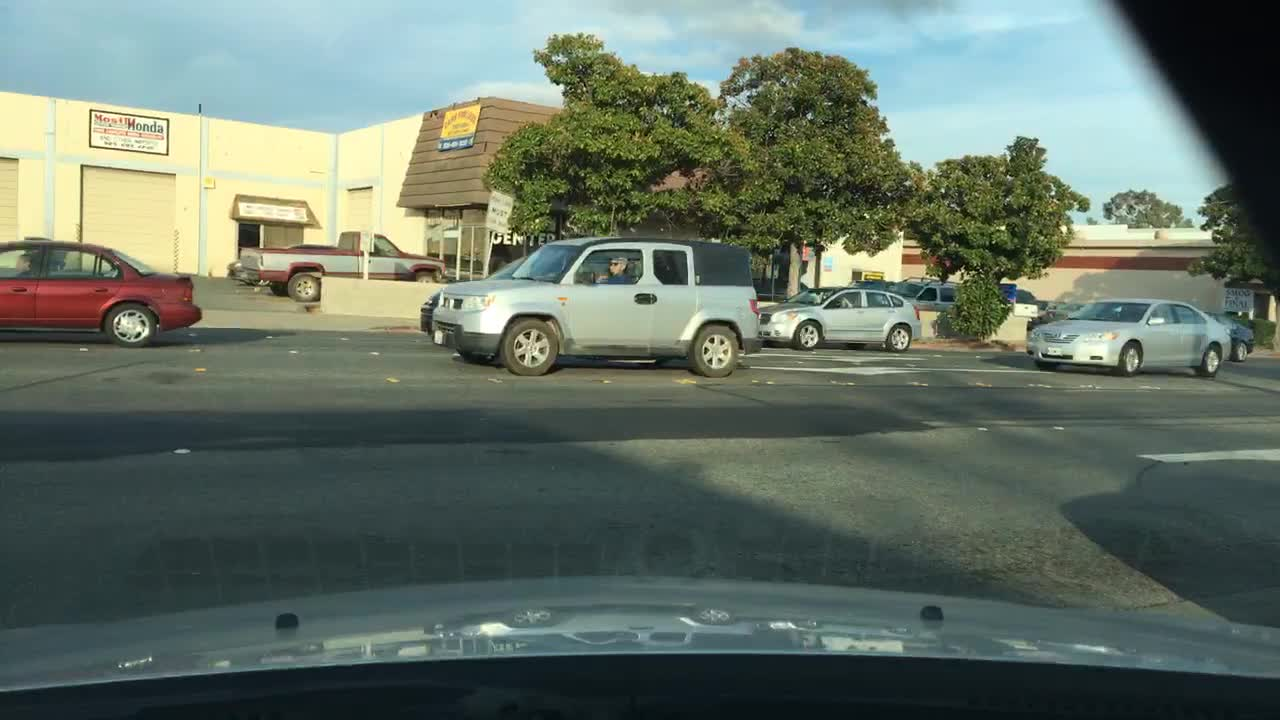car: (429, 232, 762, 379), (0, 234, 205, 347), (1027, 298, 1234, 380), (417, 254, 533, 357), (756, 287, 921, 355), (1022, 301, 1086, 354), (1209, 314, 1255, 361), (895, 274, 955, 307), (226, 255, 266, 283)
traffic sign: (1223, 287, 1251, 310)
truck: (241, 229, 449, 305)
